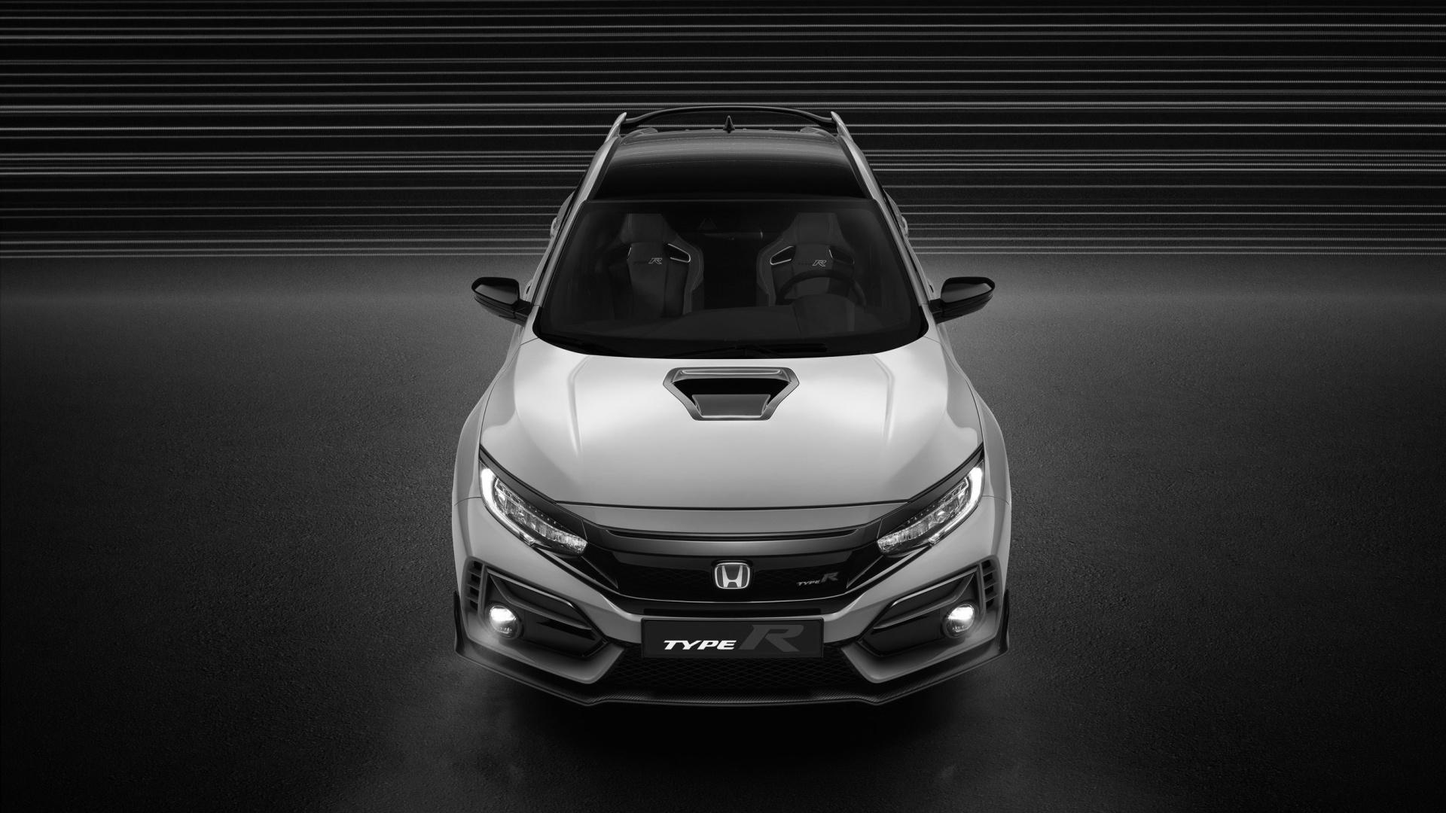Car hood: (471, 334, 983, 525)
Front bumper: (438, 491, 1017, 705)
Headlight - -L-: (865, 446, 989, 562)
Headlight - -R-: (475, 444, 588, 567)
Side mirror - -L-: (925, 271, 995, 329)
Side mirror - -R-: (468, 272, 531, 337)
